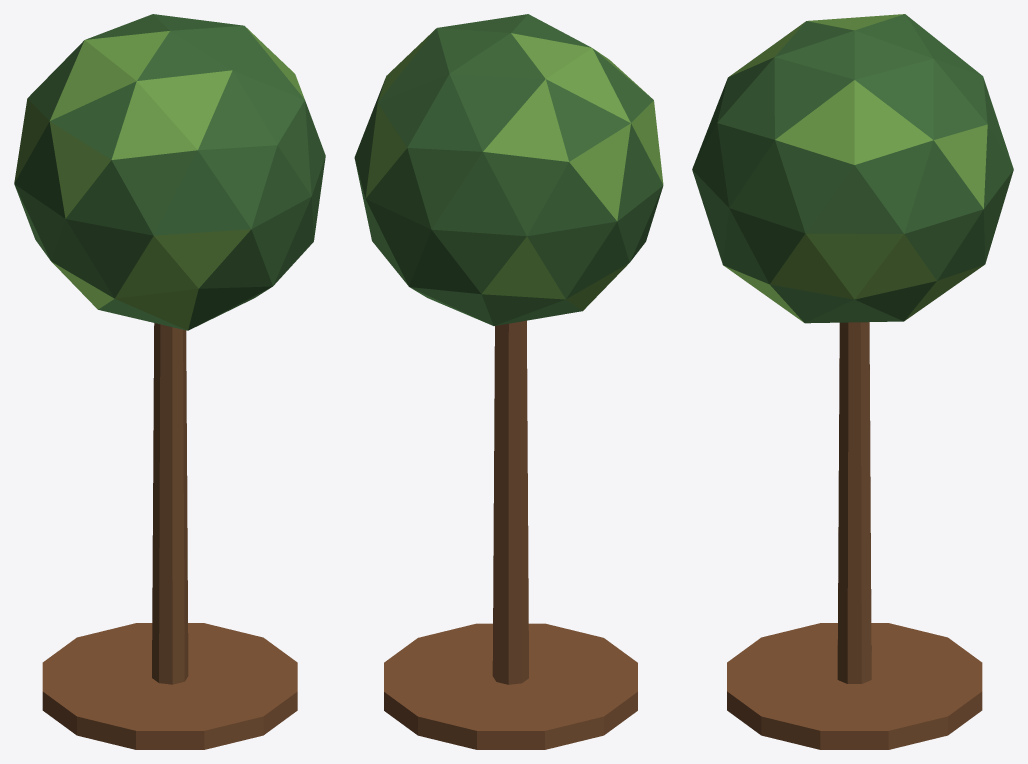
File: FMS_Garden_Topiary_Standard.fbx
The picture shows the model from 3 angles, left to right: view 1: azimuth 30°, elevation 25°; view 2: azimuth 150°, elevation 25°; view 3: azimuth 270°, elevation 25°; orthographic projection.
Visible parts, largest first — view 1: FMS_Garden_Topiary_Standard_Body; view 2: FMS_Garden_Topiary_Standard_Body; view 3: FMS_Garden_Topiary_Standard_Body.
Boxes of the visible parts, <box> form: FMS_Garden_Topiary_Standard_Body: <box>14,14,325,749</box>; FMS_Garden_Topiary_Standard_Body: <box>354,14,663,749</box>; FMS_Garden_Topiary_Standard_Body: <box>692,14,1013,749</box>.
Size of the model in its own units: 0.5764 by 1.39 by 0.6093.
Materials: 1 (1 with a texture image).
